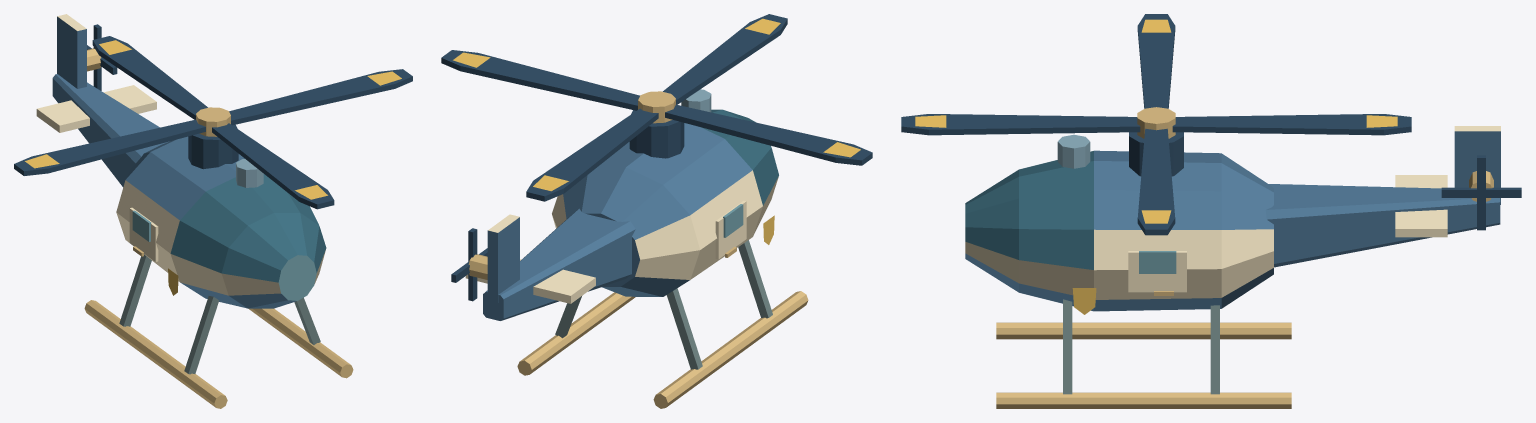
The model's file is police-helicopter.glb.
The picture shows the model from 3 angles, left to right: view 1: azimuth 30°, elevation 25°; view 2: azimuth 150°, elevation 25°; view 3: azimuth 270°, elevation 25°; orthographic projection. The views are drawn at different scales.
Visible parts, largest first — view 1: body, rotor; view 2: body, rotor; view 3: body, rotor.
Boxes of the visible parts, bbox=[...] form: body: bbox=[36, 14, 353, 408]; rotor: bbox=[14, 36, 412, 209]; body: bbox=[451, 89, 808, 408]; rotor: bbox=[441, 14, 872, 201]; body: bbox=[965, 126, 1521, 408]; rotor: bbox=[901, 14, 1411, 235].
Bounding box in the file's own units: 4.08 × 2.28 × 4.96.
1 material, 1 textured.
